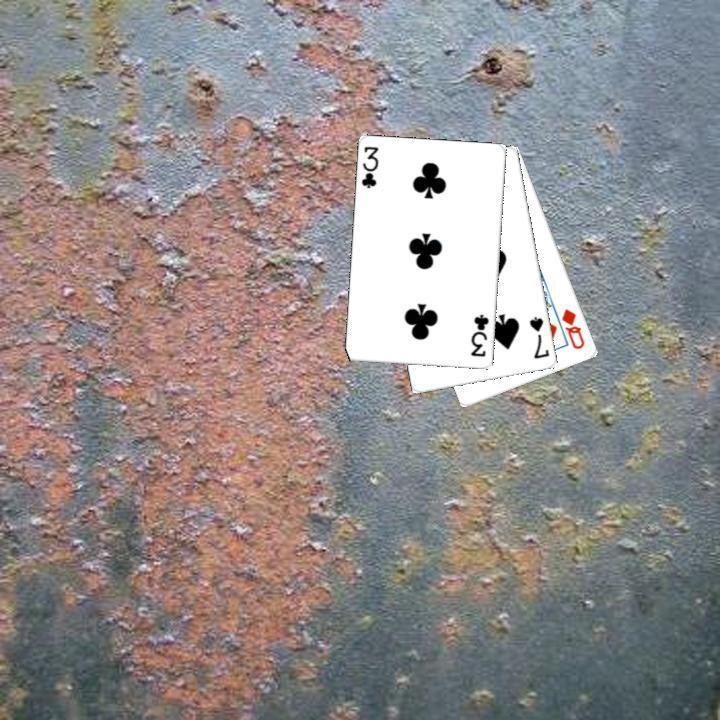3: (467, 310, 491, 359), (357, 142, 381, 191)
7: (525, 312, 552, 361)
Q: (558, 304, 587, 351)
